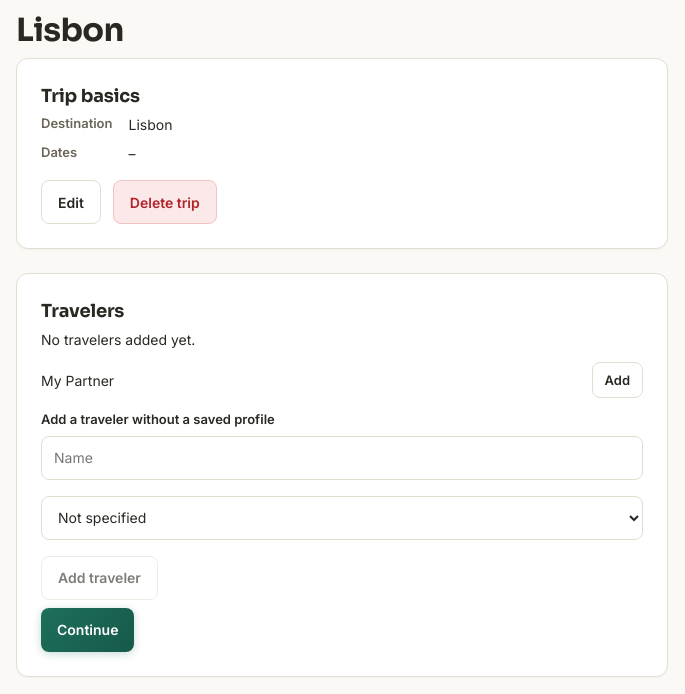
Test case: TripWizardPage › lists reusable profiles to add once basics are saved, and adds one
Check: the text "My Partner" is shown, box [41, 370, 114, 390]
Click the button "Add".
click(617, 380)  # box [592, 362, 643, 398]
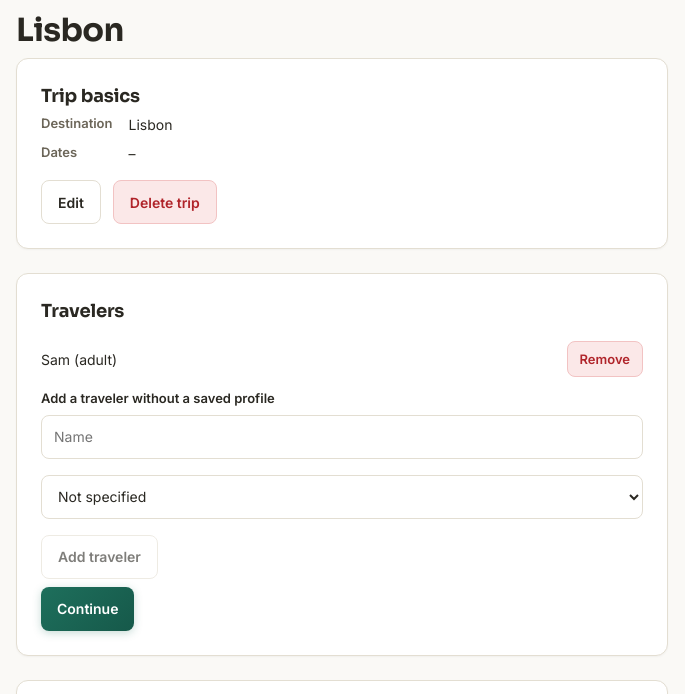
Check: the text "Sam (adult)" is shown, box [41, 348, 117, 370]
Check: the text "My Partner" is gone
